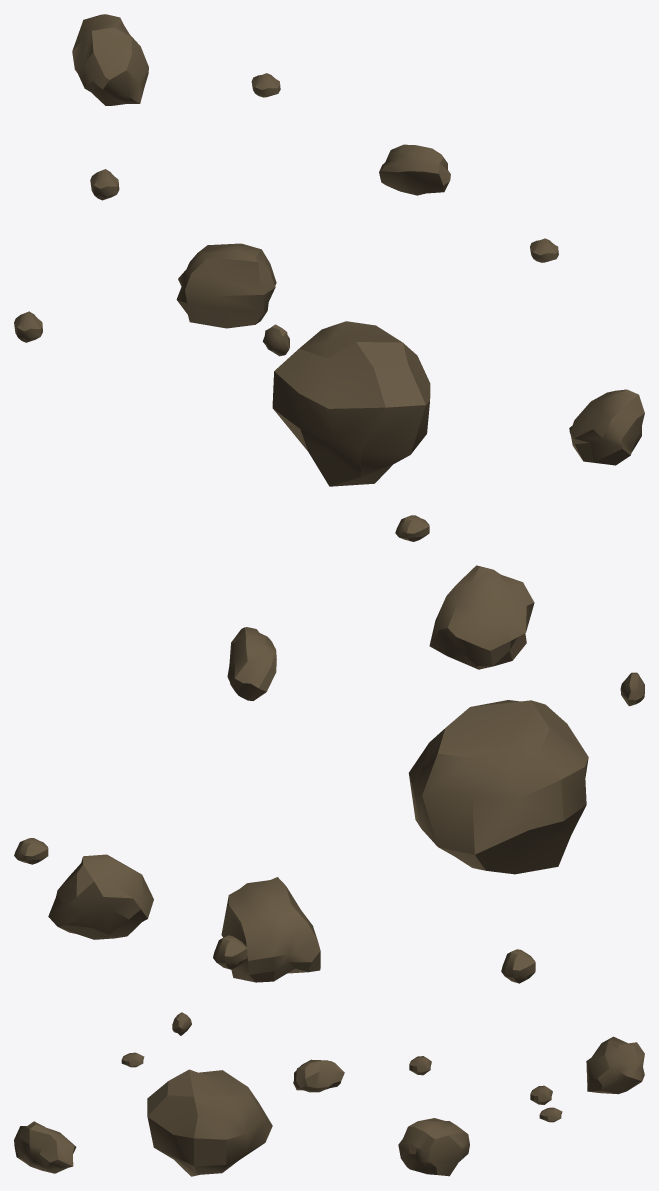
File: floating_rock_small_2.fbx
3 views of the same model, one above another, from view 1: azimuth 30°, elevation 25°; view 2: azimuth 150°, elevation 25°; view 3: azimuth 270°, elevation 25° (orthographic). The views are drawn at different scales.
Parts seen in each view (by area): view 1: Cube.021; view 2: Cube.021; view 3: Cube.021.
Boxes of the visible parts, x1,y1,x2,y2 form: Cube.021: [14, 14, 644, 486]; Cube.021: [14, 515, 644, 983]; Cube.021: [14, 1012, 644, 1176].
Size of the model in its own units: 362 by 235 by 811.
